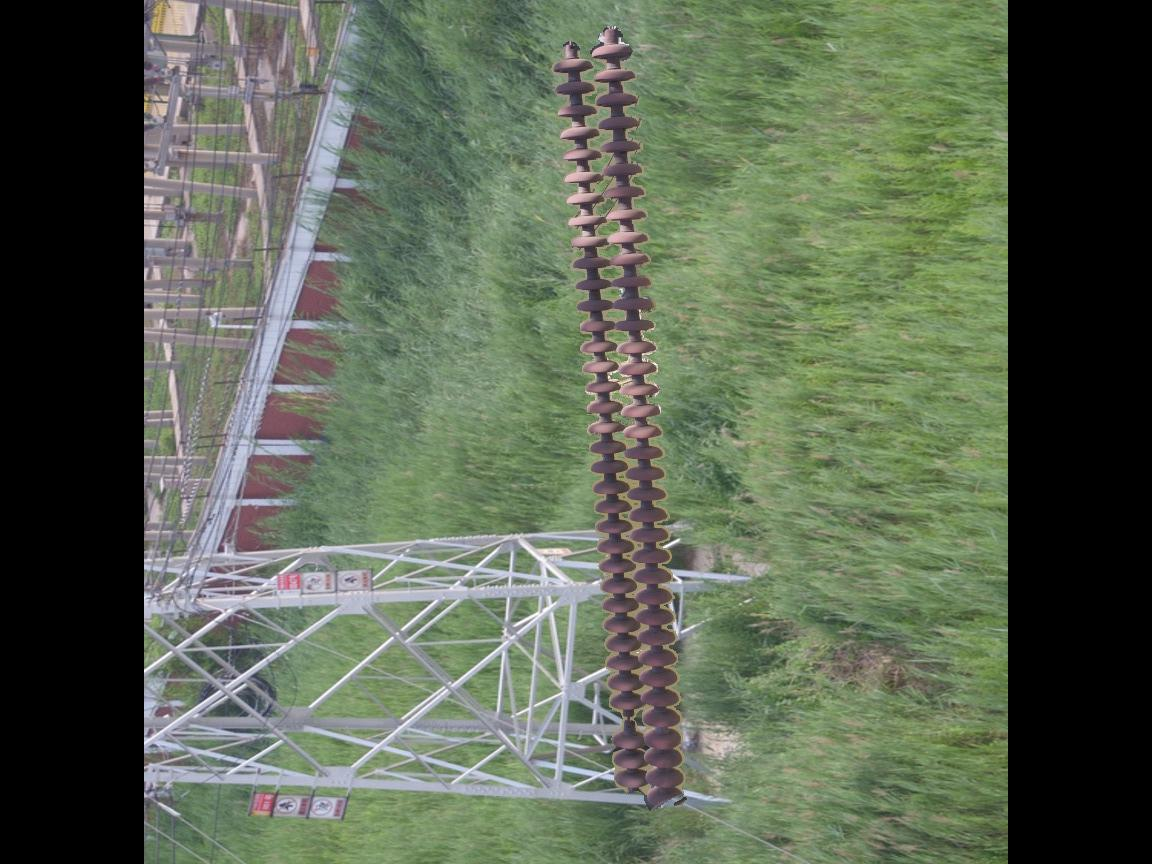insulator: (545, 33, 692, 815)
insulator_stringdrop: (607, 690, 650, 755)
